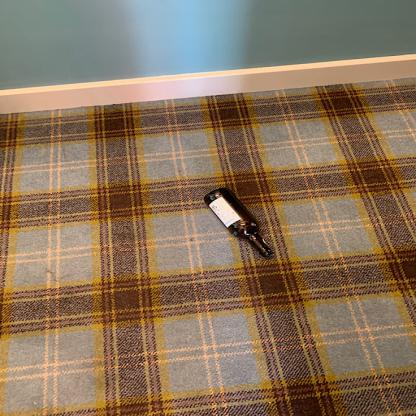trash: (199, 186, 274, 260)
